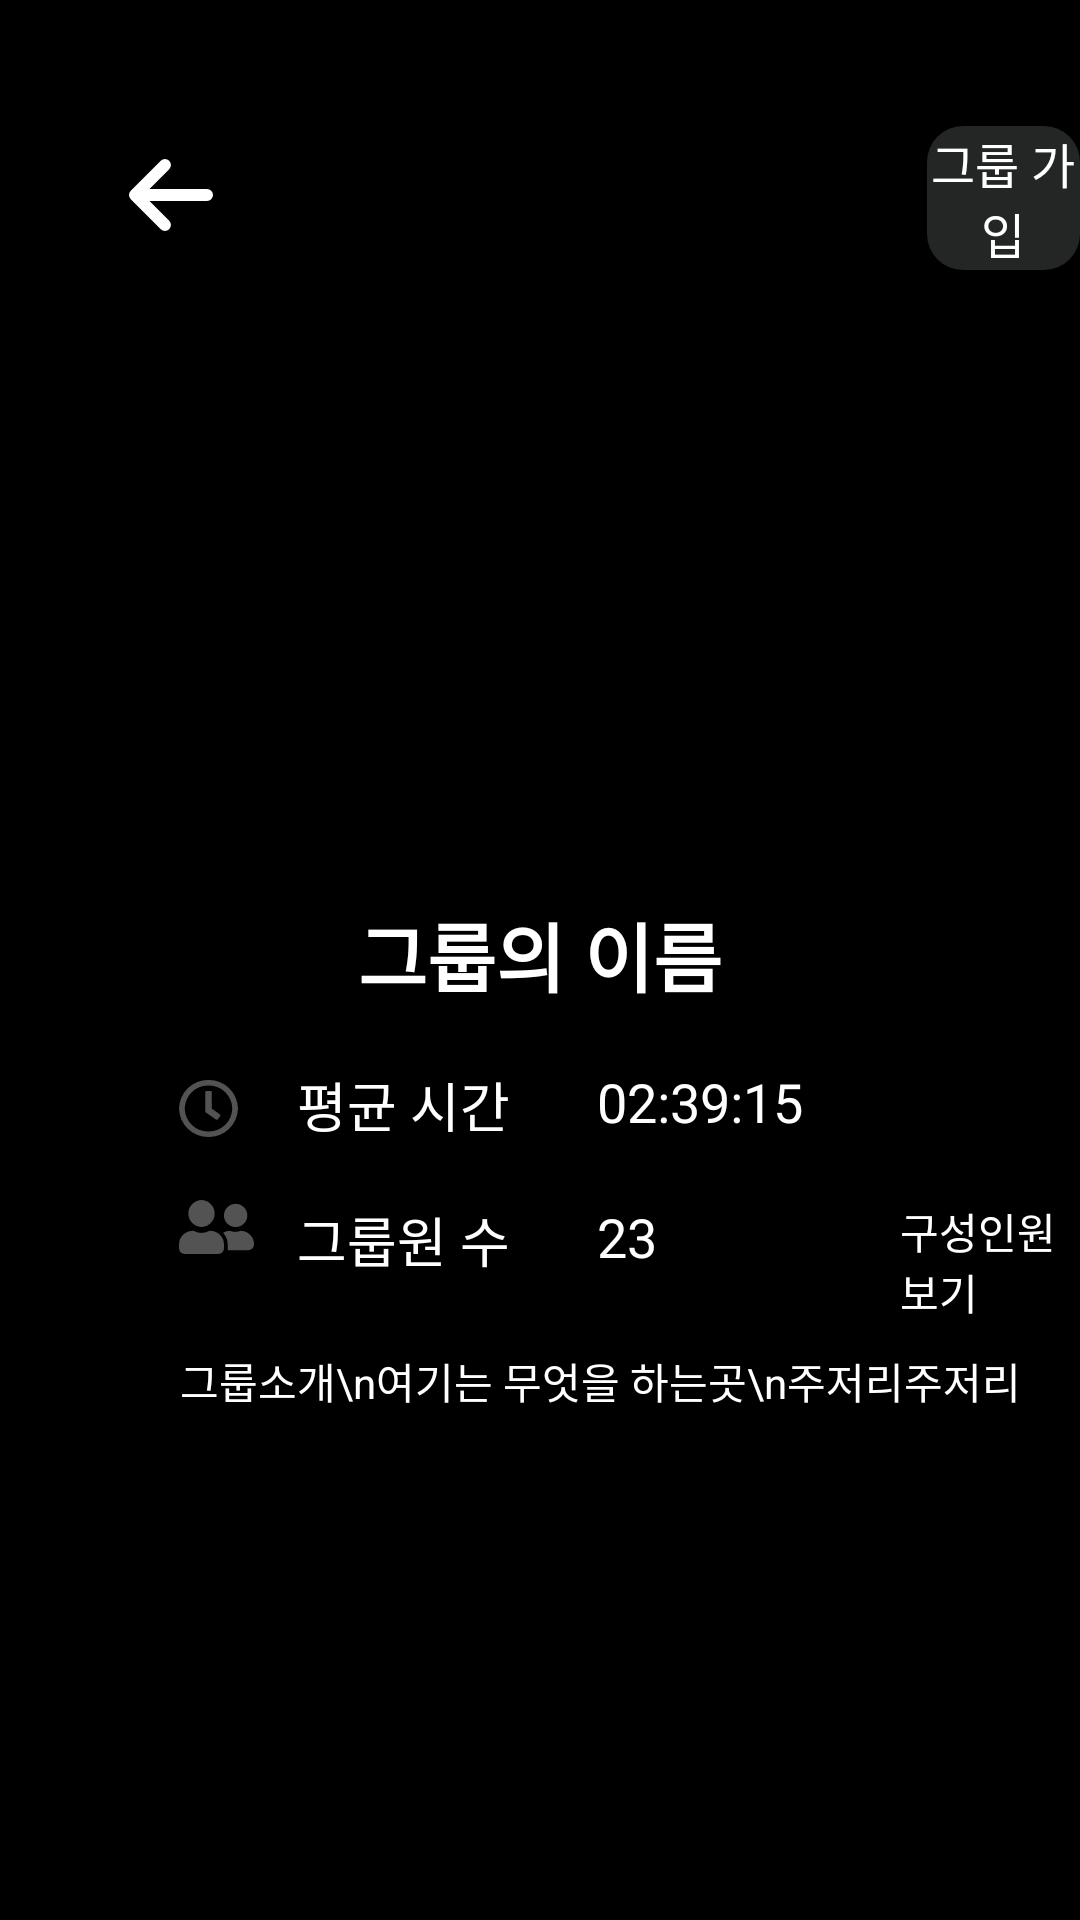

Icons on this 1080x1920 Android screen, each with the point to tap as point (x, y):
arrow left: point (171, 195)
promotion detail clock: point (208, 1108)
promotion detail people: point (216, 1227)
